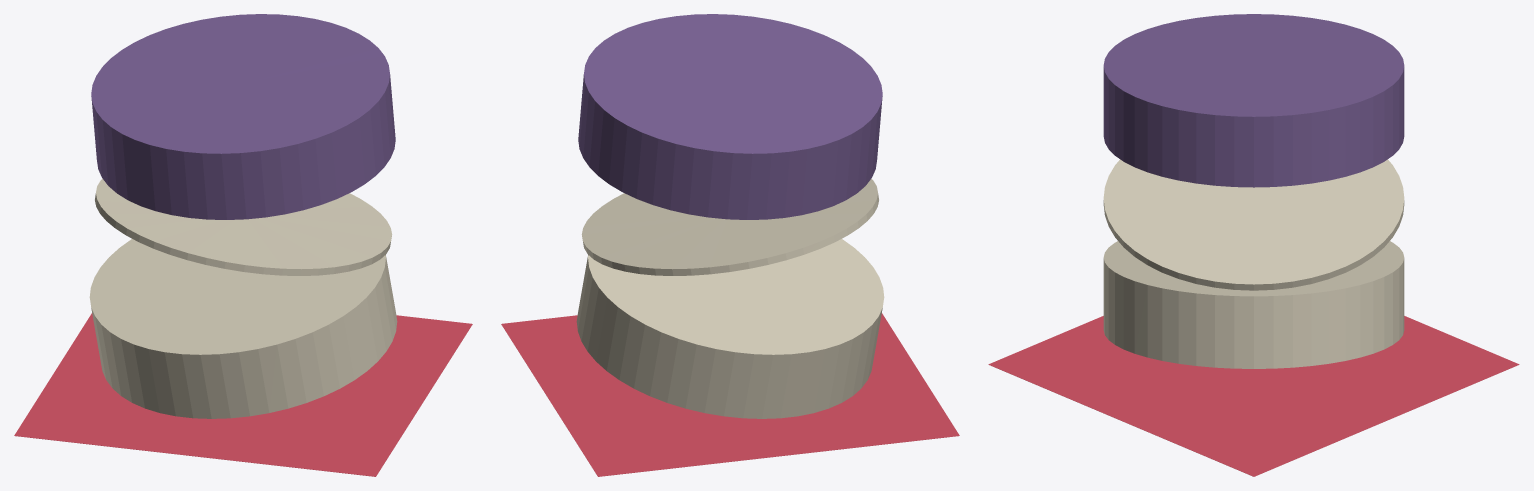
The model's file is VVU.glb.
The picture shows the model from 3 angles, left to right: view 1: azimuth 30°, elevation 25°; view 2: azimuth 150°, elevation 25°; view 3: azimuth 270°, elevation 25°; orthographic projection.
Parts seen in each view (by area): view 1: Mesh_Mesh_head_geo.001_lambert2SG.001; view 2: Mesh_Mesh_head_geo.001_lambert2SG.001; view 3: Mesh_Mesh_head_geo.001_lambert2SG.001.
Boxes of the visible parts, bbox=[...] form: Mesh_Mesh_head_geo.001_lambert2SG.001: bbox=[14, 14, 472, 476]; Mesh_Mesh_head_geo.001_lambert2SG.001: bbox=[501, 14, 959, 476]; Mesh_Mesh_head_geo.001_lambert2SG.001: bbox=[988, 14, 1519, 476].
Size of the model in its own units: 0.0354 by 0.0227 by 0.0354.
